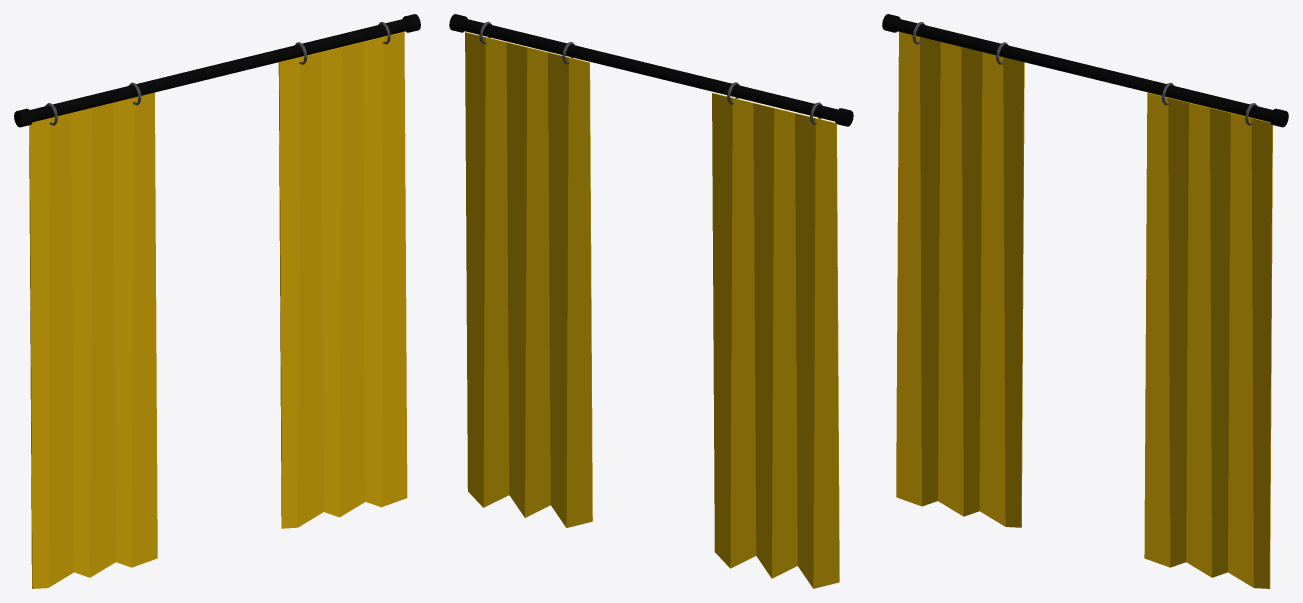
The model's file is window_screen_4.fbx.
The picture shows the model from 3 angles, left to right: view 1: azimuth 30°, elevation 25°; view 2: azimuth 150°, elevation 25°; view 3: azimuth 330°, elevation 25°; orthographic projection.
Parts seen in each view (by area): view 1: window_screen.003; view 2: window_screen.003; view 3: window_screen.003.
Boxes of the visible parts, box(x1,y1,x2,y2) form: window_screen.003: box(14, 14, 420, 588); window_screen.003: box(449, 14, 853, 588); window_screen.003: box(882, 14, 1288, 588).
Bounding box in the file's own units: 3.54 × 4.13 × 0.1805.
